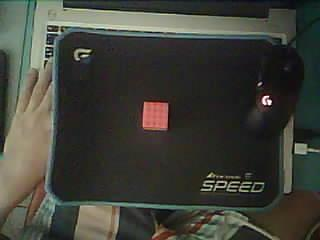lego: (142, 101, 168, 129)
